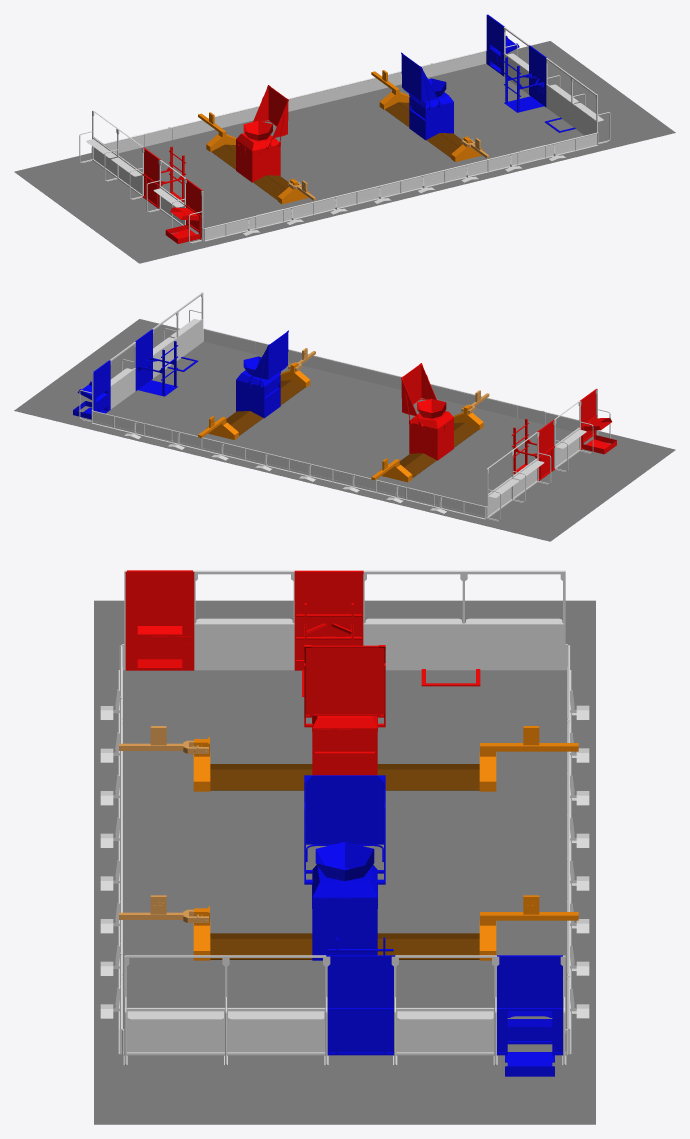
Rendered from field.glb.
3 renders of one model, top to bottom at view 1: azimuth 30°, elevation 25°; view 2: azimuth 150°, elevation 25°; view 3: azimuth 270°, elevation 25°, orthographic. The views are drawn at different scales.
Visible parts, largest first — view 1: BLOCK CAD: CARPET, BLOCK CAD: SIDE WALL, AUDIENCE, BLOCK CAD: SIDE WALL, SCORING TABLE, BLOCK CAD: HUB, RED, BLOCK CAD: HUB, BLUE, BLOCK CAD: ALLIANCE STATION, BLUE 1 & 2, BLOCK CAD: ALLIANCE STATION, RED 1 & 2, BLOCK CAD: TOWER, BLUE, BLOCK CAD: OUTPOST, RED, BLOCK CAD: TOWER, RED, BLOCK CAD: OUTPOST, BLUE, BLOCK CAD: ALLIANCE STATION, RED 3 (+8 smaller); view 2: BLOCK CAD: CARPET, BLOCK CAD: SIDE WALL, SCORING TABLE, BLOCK CAD: SIDE WALL, AUDIENCE, BLOCK CAD: HUB, RED, BLOCK CAD: HUB, BLUE, BLOCK CAD: ALLIANCE STATION, RED 1 & 2, BLOCK CAD: ALLIANCE STATION, BLUE 1 & 2, BLOCK CAD: TOWER, BLUE, BLOCK CAD: OUTPOST, RED, BLOCK CAD: TOWER, RED, BLOCK CAD: OUTPOST, BLUE, BLOCK CAD: ALLIANCE STATION, RED 3 (+7 smaller); view 3: BLOCK CAD: CARPET, BLOCK CAD: HUB, BLUE, BLOCK CAD: ALLIANCE STATION, RED 1 & 2, BLOCK CAD: ALLIANCE STATION, BLUE 1 & 2, BLOCK CAD: HUB, RED, BLOCK CAD: OUTPOST, BLUE, BLOCK CAD: OUTPOST, RED, BLOCK CAD: TOWER, BLUE, BLOCK CAD: ALLIANCE STATION, RED 3, BLOCK CAD: ALLIANCE STATION, BLUE 3, BLOCK CAD: TOWER, RED, BLOCK CAD: SIDE WALL, AUDIENCE (+10 smaller).
Part boxes in pixels (x1,y1,x2,y2): BLOCK CAD: CARPET: (14, 41, 675, 263); BLOCK CAD: SIDE WALL, AUDIENCE: (202, 132, 598, 241); BLOCK CAD: SIDE WALL, SCORING TABLE: (91, 50, 486, 157); BLOCK CAD: HUB, RED: (236, 85, 288, 182); BLOCK CAD: HUB, BLUE: (401, 52, 453, 140); BLOCK CAD: ALLIANCE STATION, BLUE 1 & 2: (546, 58, 610, 144); BLOCK CAD: ALLIANCE STATION, RED 1 & 2: (79, 110, 144, 199); BLOCK CAD: TOWER, BLUE: (504, 45, 546, 112); BLOCK CAD: OUTPOST, RED: (165, 178, 202, 243); BLOCK CAD: TOWER, RED: (142, 146, 185, 208); BLOCK CAD: OUTPOST, BLUE: (486, 14, 519, 76); BLOCK CAD: ALLIANCE STATION, RED 3: (146, 160, 186, 228); BLOCK CAD: CARPET: (14, 319, 675, 541); BLOCK CAD: SIDE WALL, SCORING TABLE: (91, 410, 487, 519); BLOCK CAD: SIDE WALL, AUDIENCE: (203, 328, 598, 436); BLOCK CAD: HUB, RED: (401, 363, 453, 460); BLOCK CAD: HUB, BLUE: (236, 330, 288, 418); BLOCK CAD: ALLIANCE STATION, RED 1 & 2: (486, 432, 551, 521); BLOCK CAD: ALLIANCE STATION, BLUE 1 & 2: (151, 292, 203, 378); BLOCK CAD: TOWER, BLUE: (135, 329, 178, 396); BLOCK CAD: OUTPOST, RED: (580, 389, 616, 454); BLOCK CAD: TOWER, RED: (511, 419, 554, 480); BLOCK CAD: OUTPOST, BLUE: (73, 360, 110, 419); BLOCK CAD: ALLIANCE STATION, RED 3: (553, 401, 593, 471); BLOCK CAD: CARPET: (94, 600, 595, 1124); BLOCK CAD: HUB, BLUE: (304, 775, 385, 960); BLOCK CAD: ALLIANCE STATION, RED 1 & 2: (363, 570, 567, 670); BLOCK CAD: ALLIANCE STATION, BLUE 1 & 2: (122, 955, 330, 1065); BLOCK CAD: HUB, RED: (304, 645, 385, 775); BLOCK CAD: OUTPOST, BLUE: (497, 955, 562, 1076); BLOCK CAD: OUTPOST, RED: (125, 570, 194, 670); BLOCK CAD: TOWER, BLUE: (326, 937, 395, 1055); BLOCK CAD: ALLIANCE STATION, RED 3: (193, 570, 294, 670); BLOCK CAD: ALLIANCE STATION, BLUE 3: (391, 955, 499, 1065); BLOCK CAD: TOWER, RED: (294, 570, 363, 696); BLOCK CAD: SIDE WALL, AUDIENCE: (100, 645, 124, 1054).
Size of the model in its own units: 22.56 by 3.06 by 9.14.
